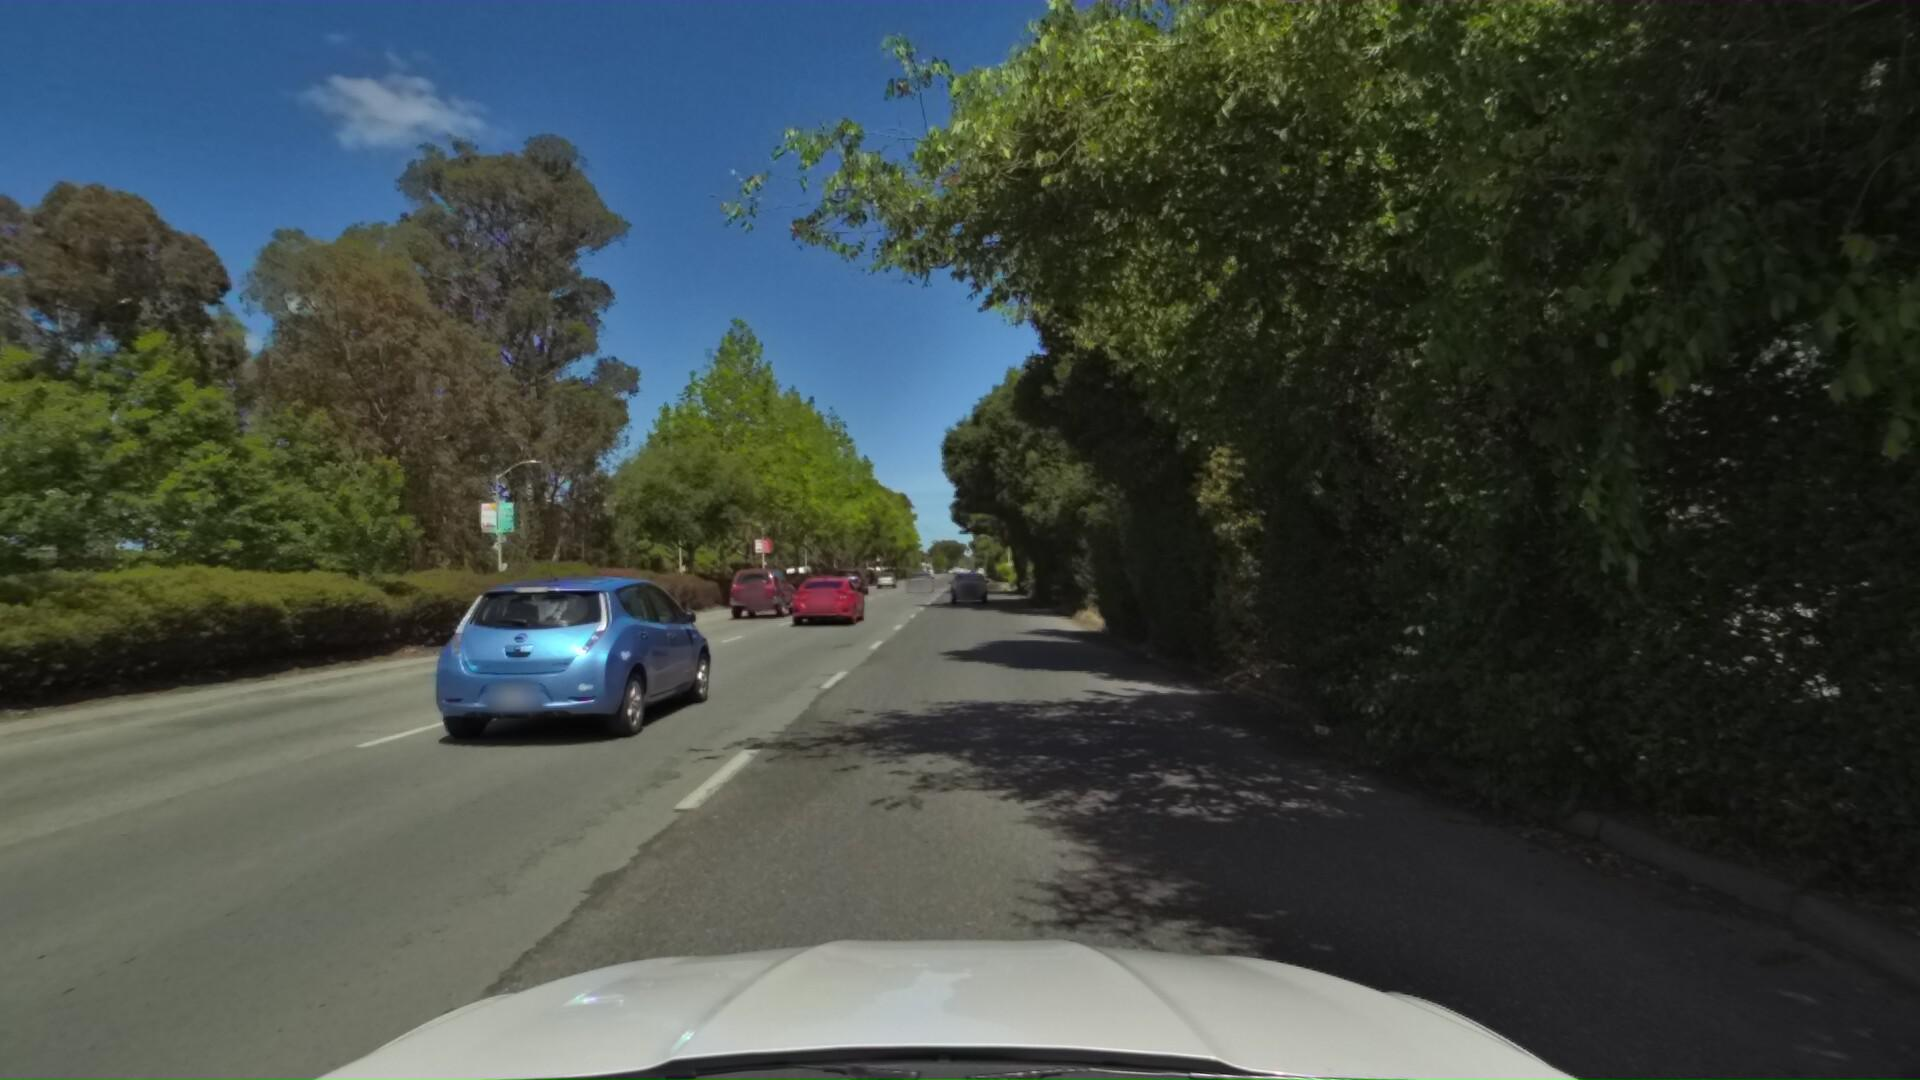car: (402, 563, 723, 750), (787, 568, 868, 626), (725, 560, 800, 615), (944, 564, 992, 601), (833, 560, 873, 592), (902, 564, 934, 588)
